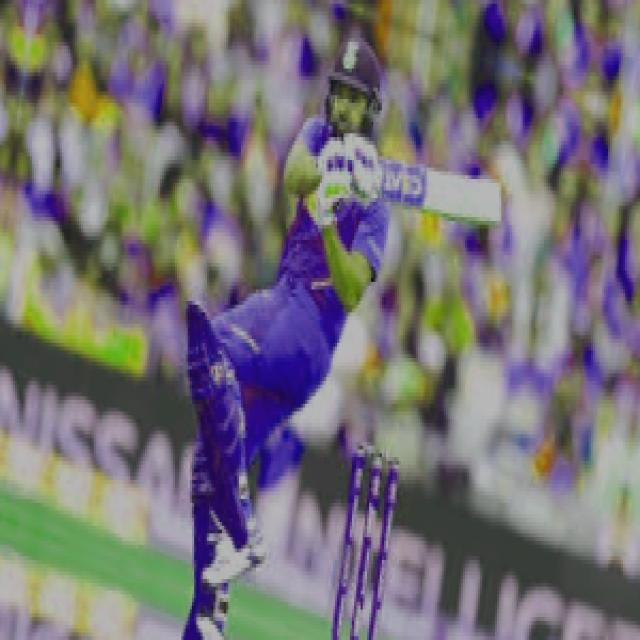toe: (471, 172, 507, 236)
